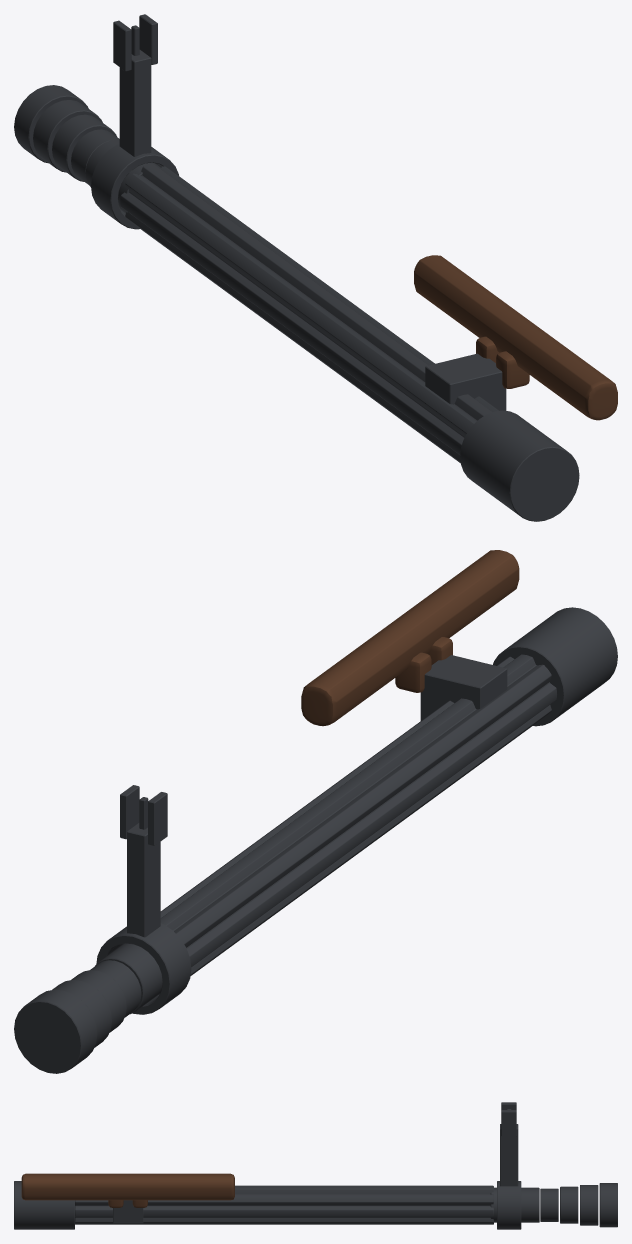
Rendered from mod_anvil_short_barrel.glb.
The picture shows the model from 3 angles, top to bottom: view 1: azimuth 30°, elevation 25°; view 2: azimuth 150°, elevation 25°; view 3: azimuth 270°, elevation 25°; orthographic projection. The views are drawn at different scales.
Visible parts, largest first — view 1: Barrel, BarrelHandle; view 2: Barrel, BarrelHandle; view 3: Barrel, BarrelHandle.
Boxes of the visible parts, x1=… form: Barrel: x1=14, y1=14, x2=579, y2=521; BarrelHandle: x1=414, y1=255, x2=617, y2=420; Barrel: x1=14, y1=607, x2=617, y2=1073; BarrelHandle: x1=301, y1=550, x2=519, y2=726; Barrel: x1=14, y1=1102, x2=617, y2=1229; BarrelHandle: x1=21, y1=1173, x2=234, y2=1207.
Size of the model in its own units: 0.0535 by 0.0872 by 0.3965.
